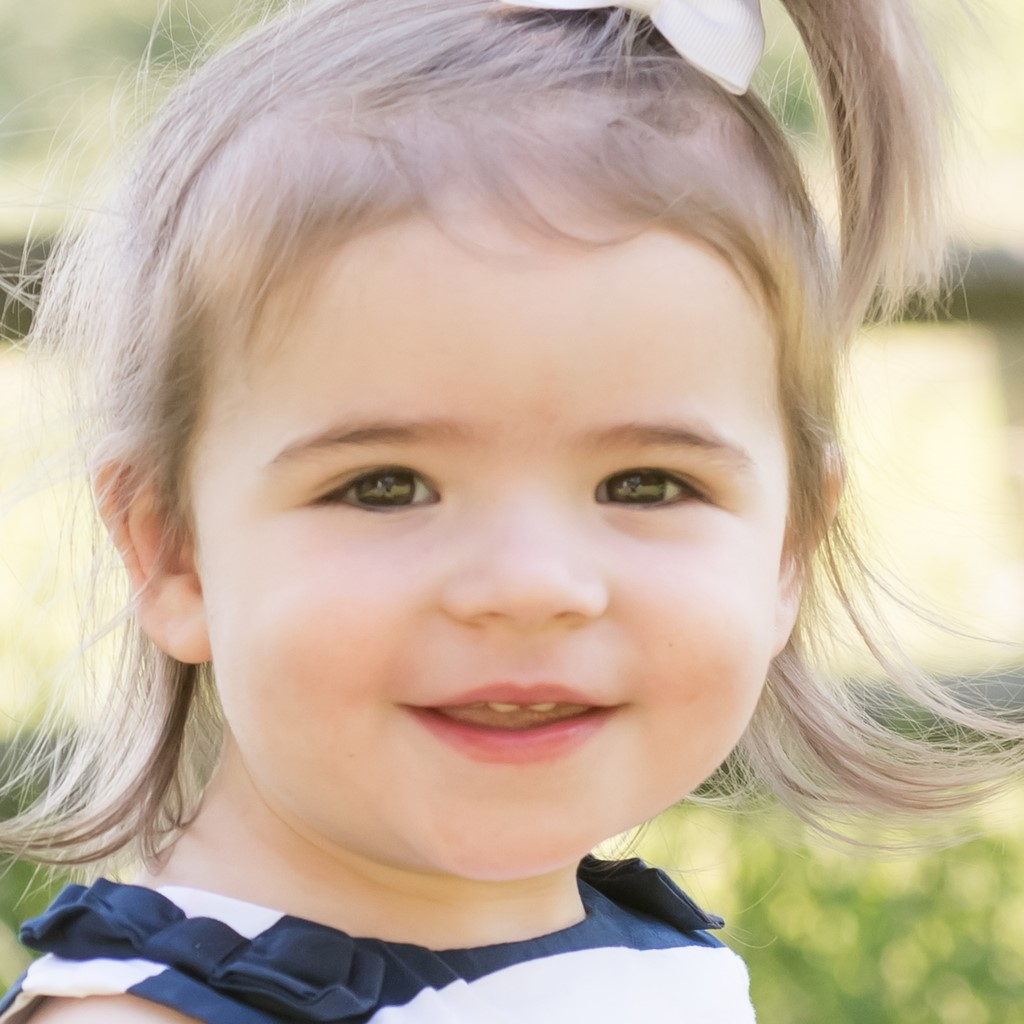sin_mascara: (173, 90, 794, 876)
